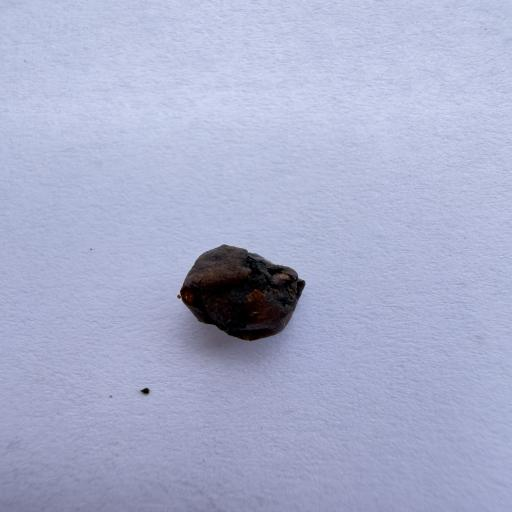Black_pepper: (140, 220, 363, 362)
